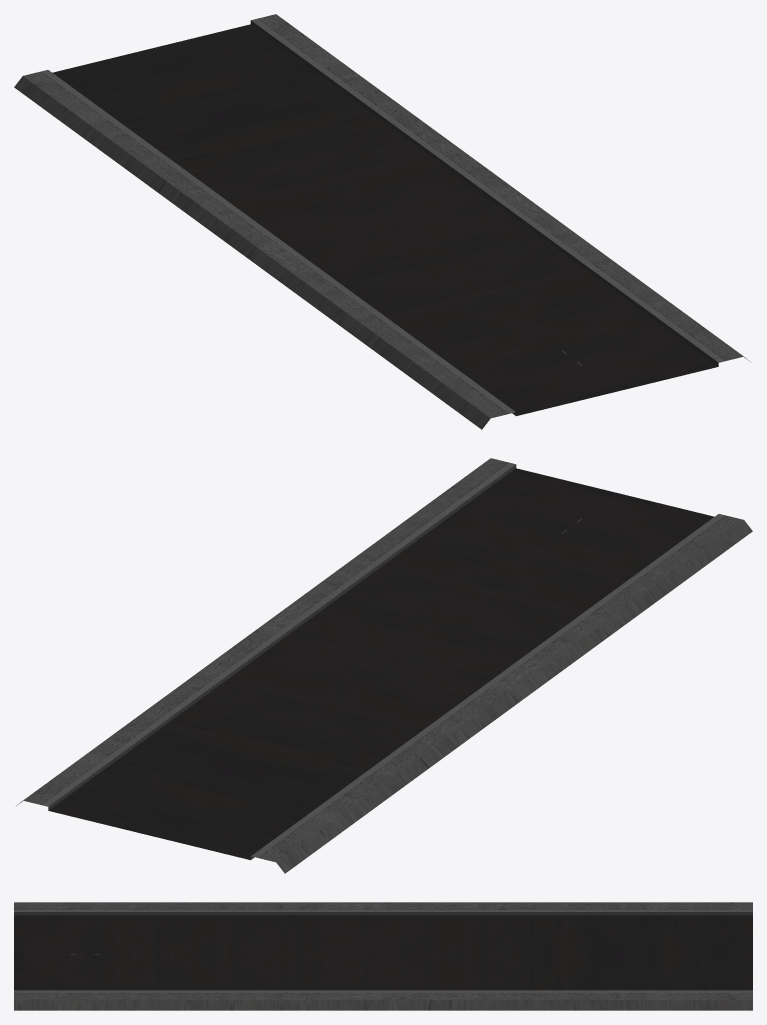
File: RJs_Road Slim 2+2 Basic Slope Node.fbx
3 views of the same model, one above another, from view 1: azimuth 30°, elevation 25°; view 2: azimuth 150°, elevation 25°; view 3: azimuth 270°, elevation 25° (orthographic). The views are drawn at different scales.
Visible parts, largest first — view 1: plane; view 2: plane; view 3: plane.
Part boxes in pixels (box(x1,y1,x2,y2)): plane: box(14, 14, 750, 429); plane: box(16, 458, 752, 873); plane: box(14, 902, 752, 1010).
Bounding box in the file's own units: 2140 × 70 × 6400.
